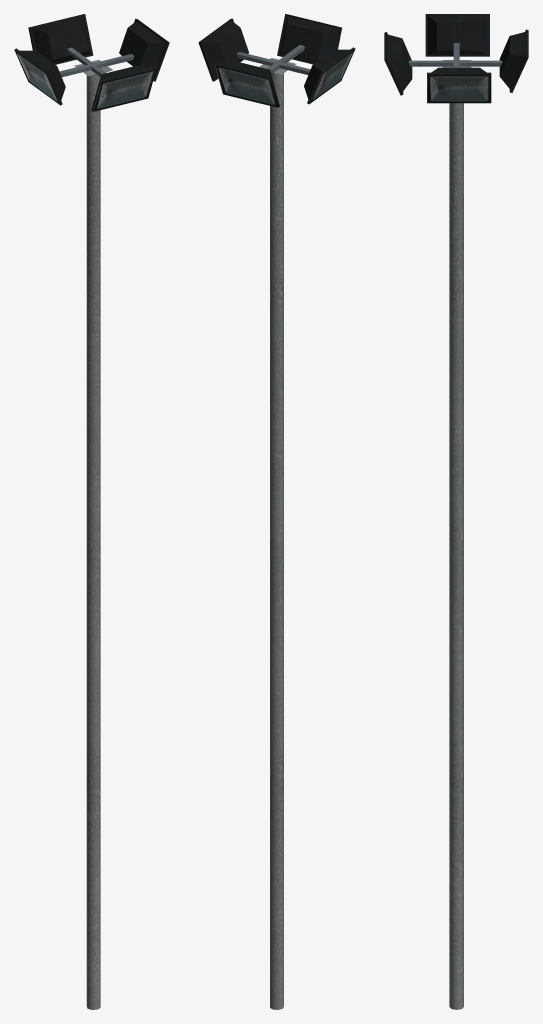
File: Light-02.fbx
3 renders of one model, left to right at view 1: azimuth 30°, elevation 25°; view 2: azimuth 150°, elevation 25°; view 3: azimuth 270°, elevation 25°, orthographic.
Parts seen in each view (by area): view 1: Light-02; view 2: Light-02; view 3: Light-02.
Boxes of the visible parts, left/top/right/bottom form: Light-02: left=14, top=14, right=169, bottom=1009; Light-02: left=198, top=14, right=355, bottom=1009; Light-02: left=384, top=14, right=528, bottom=1009.
Bounding box in the file's own units: 179 × 1328 × 180.
